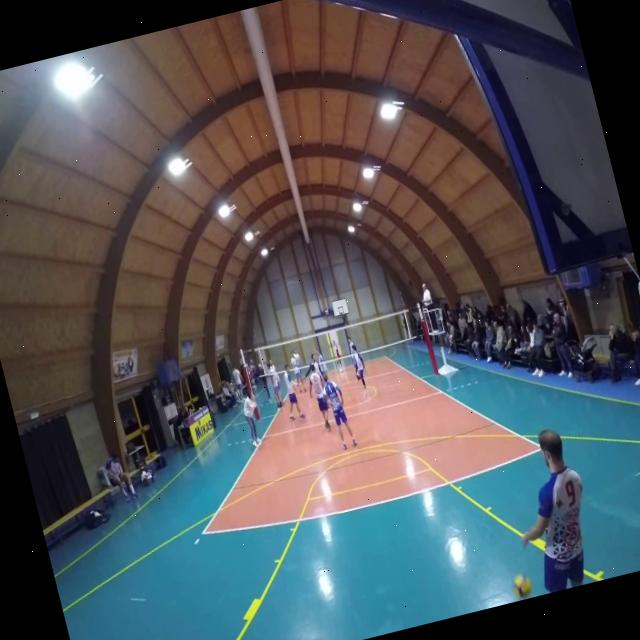Volleyball: (512, 569, 534, 600)
